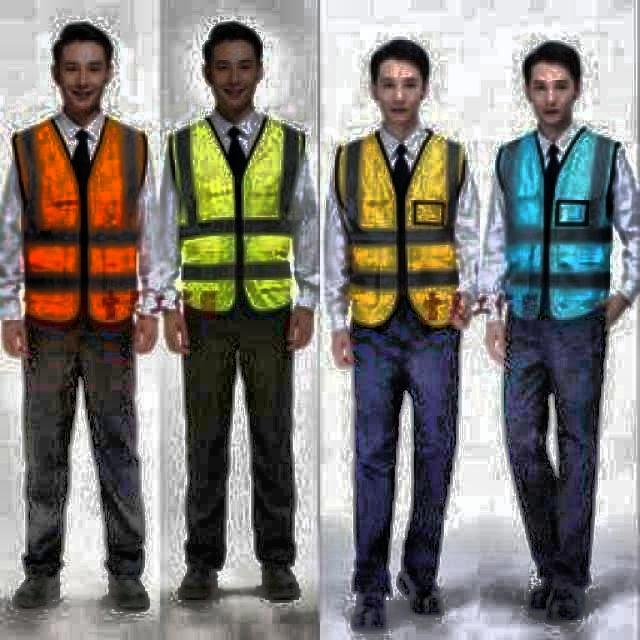safety_jacket: (15, 118, 136, 325), (342, 132, 467, 324), (177, 117, 290, 307), (506, 137, 614, 324)
